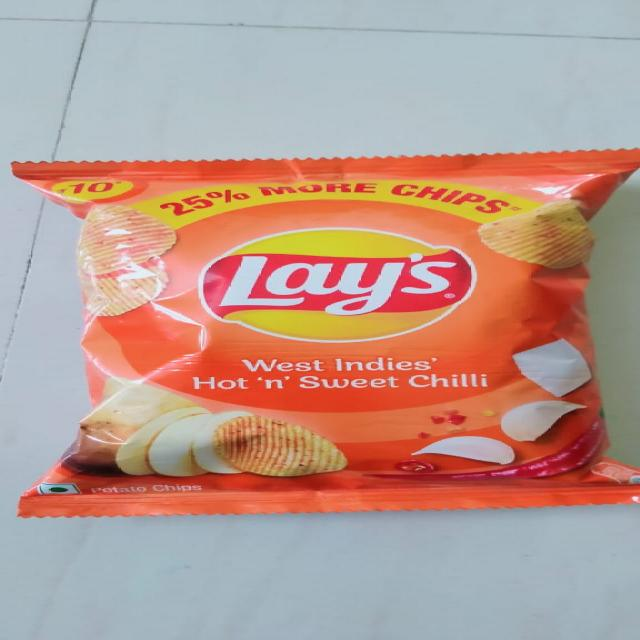lays: (14, 148, 640, 524)
